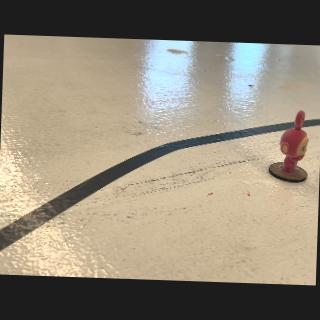teletubby: (280, 110, 308, 174)
